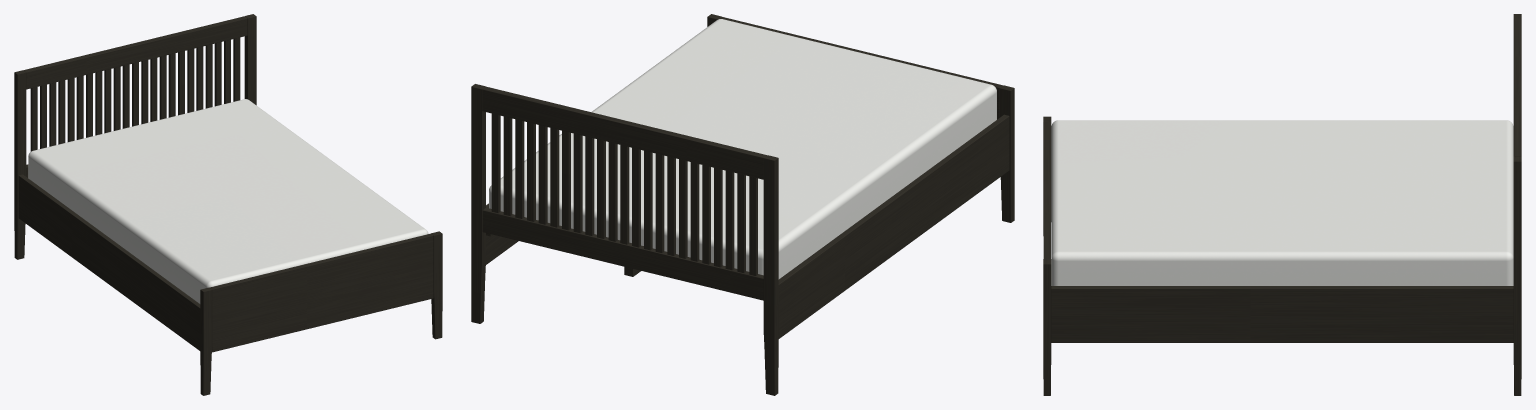
Rendered from small_dark_brown_bed.glb.
3 renders of one model, left to right at view 1: azimuth 30°, elevation 25°; view 2: azimuth 150°, elevation 25°; view 3: azimuth 270°, elevation 25°, orthographic. The views are drawn at different scales.
Parts seen in each view (by area): view 1: White_Mattress, Footboard_Solid_Panel, Left_Side_Rail, Headboard_Top_Rail, Head_Left_Post, Foot_Left_Post, Foot_Right_Post, Head_Right_Post, Headboard_Vertical_Slat_01, Headboard_Vertical_Slat_03, Headboard_Vertical_Slat_04, Headboard_Vertical_Slat_08 (+19 smaller); view 2: White_Mattress, Left_Side_Rail, Headboard_Top_Rail, Headboard_Lower_Rail, Head_Left_Post, Head_Right_Post, Foot_Left_Post, Headboard_Vertical_Slat_13, Headboard_Vertical_Slat_22, Headboard_Vertical_Slat_03, Headboard_Vertical_Slat_06, Headboard_Vertical_Slat_15 (+20 smaller); view 3: White_Mattress, Right_Side_Rail, Head_Right_Post, Foot_Right_Post, Footboard_Solid_Panel, Headboard_Top_Rail.
Part boxes in pixels (x1=…): White_Mattress: x1=28, y1=99, x2=428, y2=303; Footboard_Solid_Panel: x1=209, y1=233, x2=433, y2=352; Left_Side_Rail: x1=18, y1=174, x2=200, y2=350; Headboard_Top_Rail: x1=23, y1=16, x2=247, y2=89; Head_Left_Post: x1=14, y1=70, x2=26, y2=259; Foot_Left_Post: x1=200, y1=287, x2=212, y2=395; Foot_Right_Post: x1=431, y1=231, x2=442, y2=339; Head_Right_Post: x1=244, y1=14, x2=256, y2=105; Headboard_Vertical_Slat_01: x1=30, y1=87, x2=37, y2=151; Headboard_Vertical_Slat_03: x1=49, y1=82, x2=56, y2=146; Headboard_Vertical_Slat_04: x1=58, y1=80, x2=65, y2=144; Headboard_Vertical_Slat_08: x1=95, y1=71, x2=102, y2=135; White_Mattress: x1=489, y1=19, x2=996, y2=279; Left_Side_Rail: x1=778, y1=114, x2=1009, y2=338; Headboard_Top_Rail: x1=482, y1=86, x2=766, y2=179; Headboard_Lower_Rail: x1=482, y1=207, x2=763, y2=300; Head_Left_Post: x1=763, y1=155, x2=778, y2=395; Head_Right_Post: x1=471, y1=84, x2=485, y2=323; Foot_Left_Post: x1=1000, y1=85, x2=1014, y2=222; Headboard_Vertical_Slat_13: x1=608, y1=142, x2=617, y2=241; Headboard_Vertical_Slat_22: x1=503, y1=116, x2=512, y2=216; Headboard_Vertical_Slat_03: x1=725, y1=170, x2=734, y2=270; Headboard_Vertical_Slat_06: x1=690, y1=162, x2=699, y2=261; Headboard_Vertical_Slat_15: x1=585, y1=136, x2=594, y2=235; White_Mattress: x1=1051, y1=120, x2=1513, y2=285; Right_Side_Rail: x1=1051, y1=286, x2=1513, y2=342; Head_Right_Post: x1=1513, y1=156, x2=1521, y2=395; Foot_Right_Post: x1=1043, y1=259, x2=1051, y2=395; Footboard_Solid_Panel: x1=1043, y1=122, x2=1050, y2=258; Headboard_Top_Rail: x1=1514, y1=19, x2=1521, y2=155.
Size of the model in its own units: 1.51 by 1.12 by 2.07.
2 materials, 2 textured.
